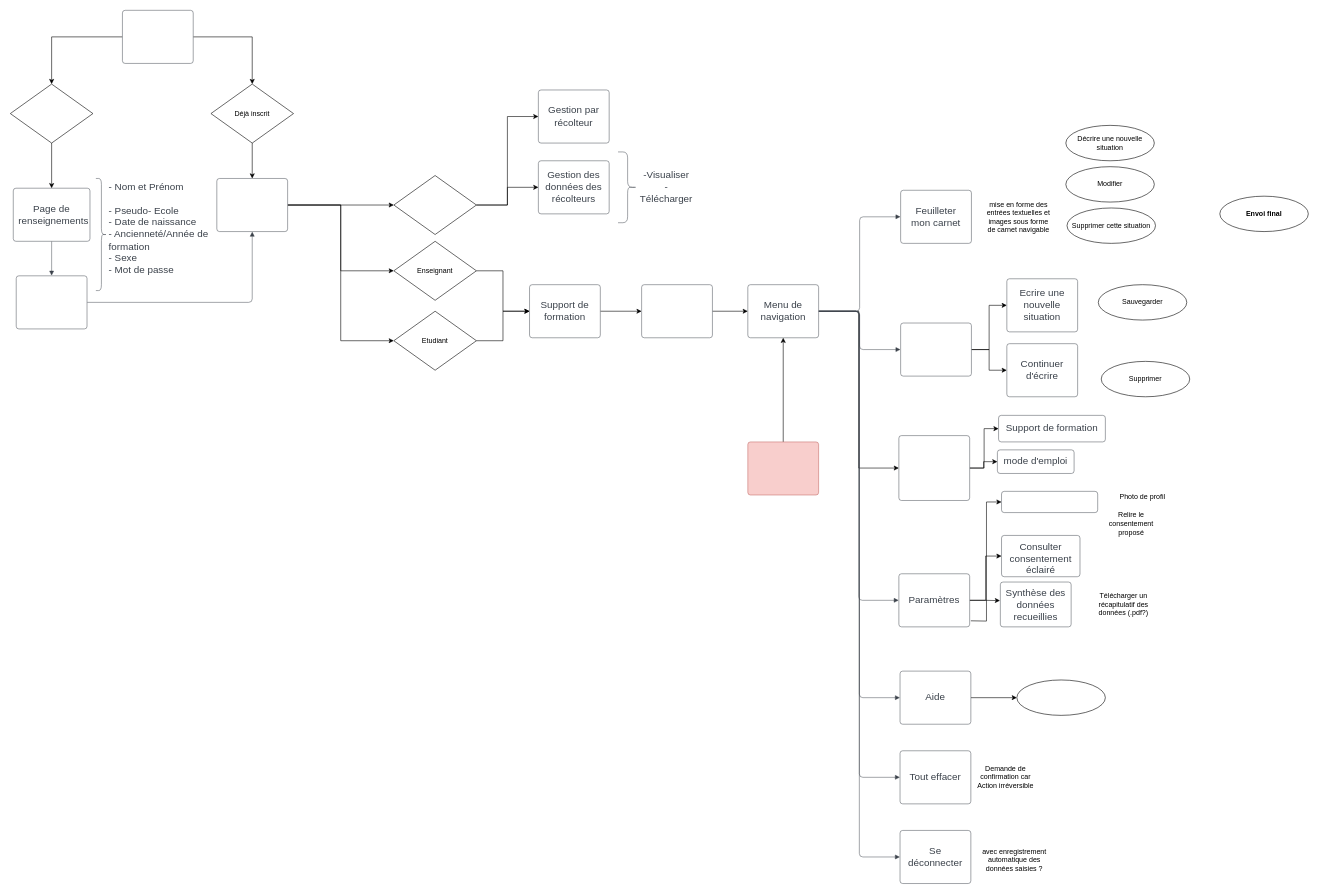
This 1319x894 diagram has some shape labels left out. Here are the shapes that lost their labels. From the top down, the box of each, then its label:
(122, 10, 193, 63): Page d'accueil
(10, 83, 93, 143): Première inscription
(216, 178, 288, 232): Page de connection
(393, 175, 476, 235): Chercheur
(16, 275, 87, 329): Consentement éclairé
(641, 284, 712, 338): Mode d'emploi Description du carnet
(900, 322, 971, 376): Ecrire dans mon carnet
(747, 441, 819, 495): Retour de connection
(898, 435, 970, 500): Support de formation et mode d'emploi
(1001, 491, 1098, 513): Personnalisation
(1016, 679, 1105, 715): Coordonnées personne ressource
